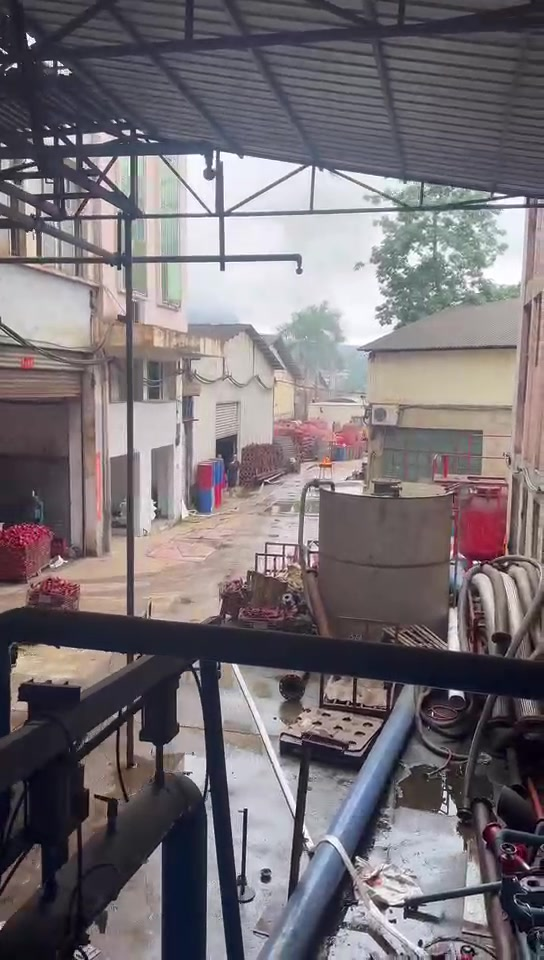fire: (319, 454, 332, 464)
